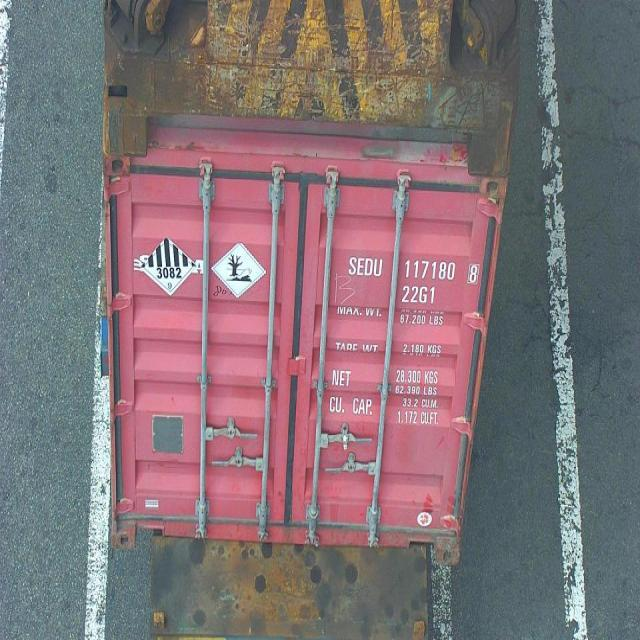ISO: (402, 284, 438, 307)
container_number: (347, 258, 477, 284)
